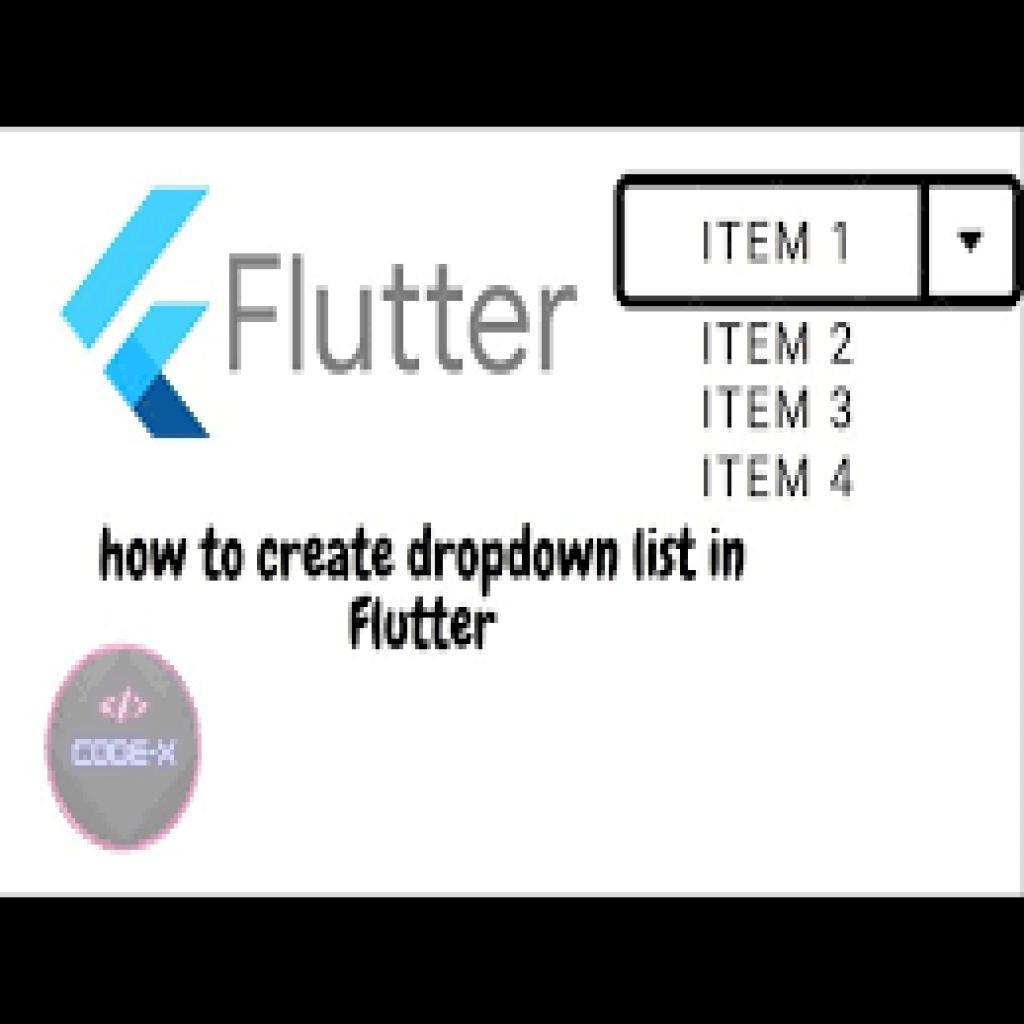dropdown: (617, 175, 1024, 315)
